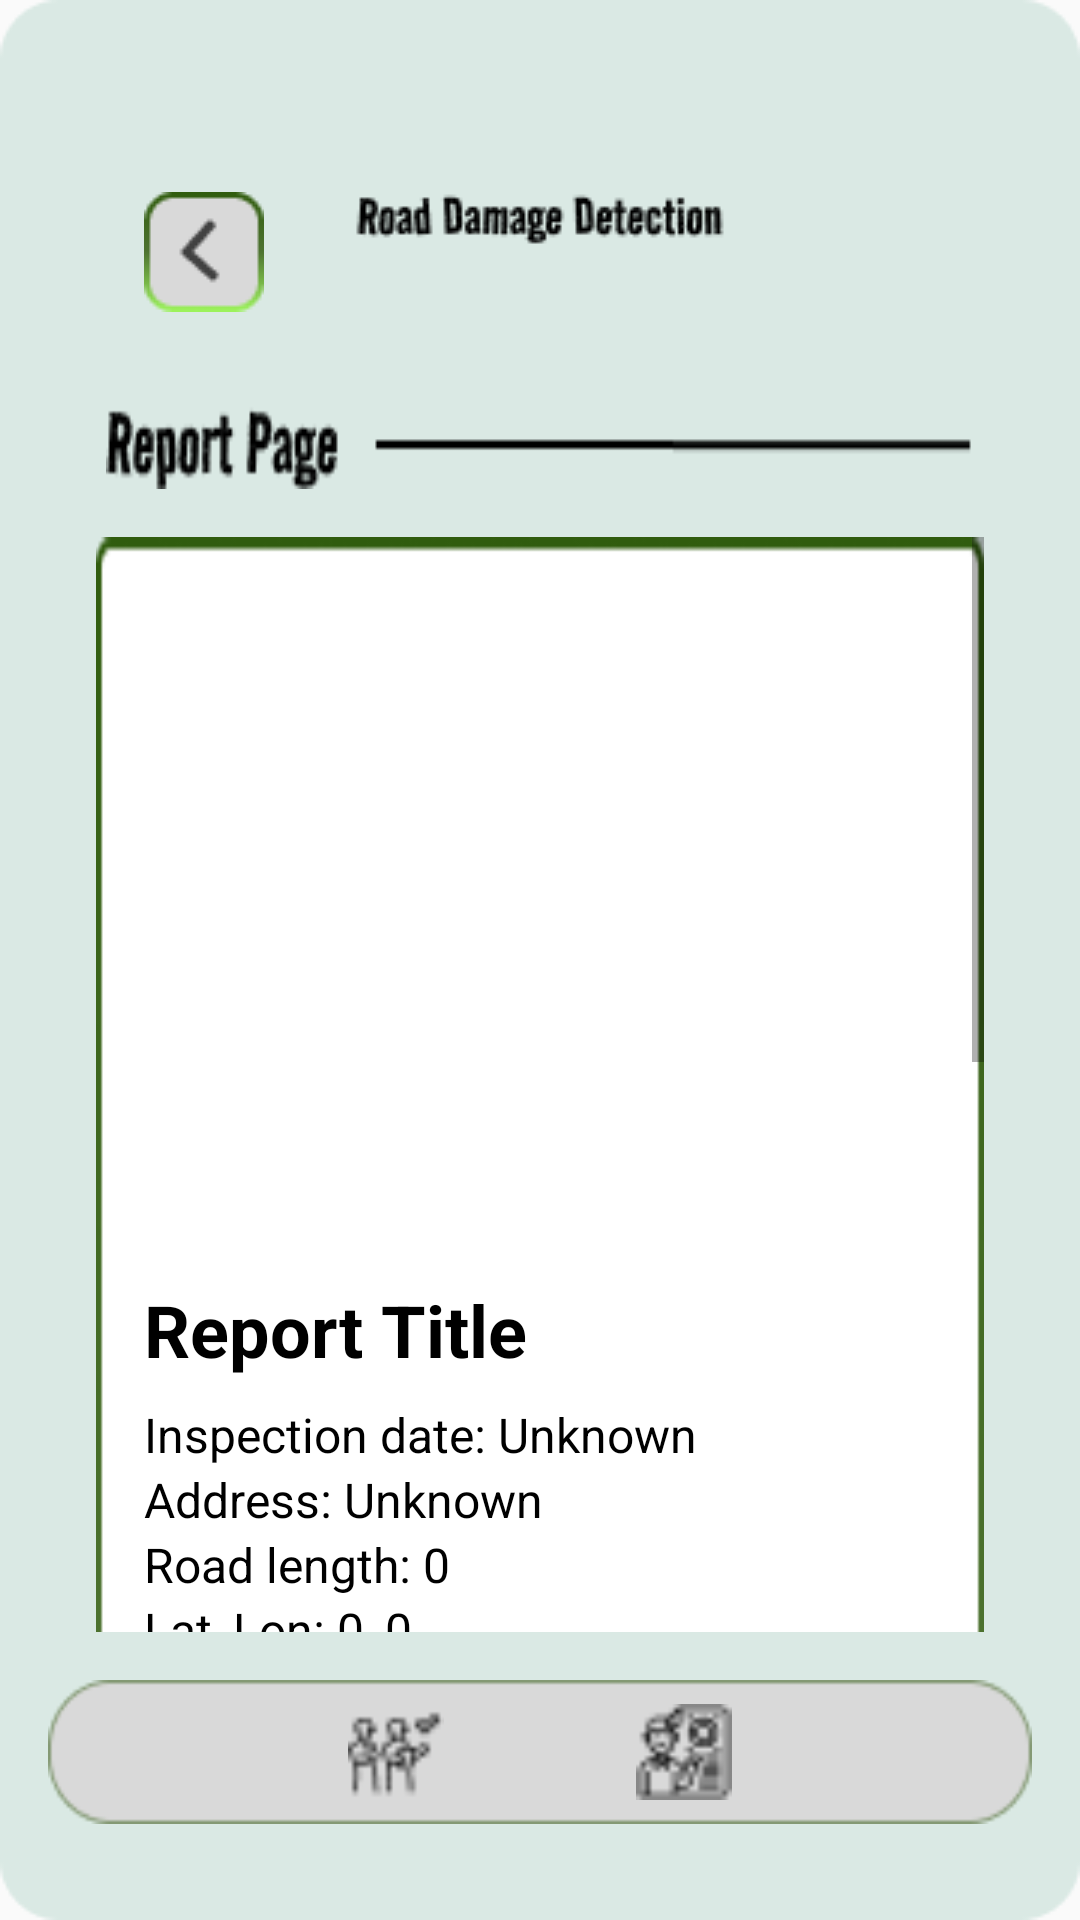

Icon bounding boxes for this 1080px×1920px phone screenshot, format bbox(x1, y1, x2, y2):
back arrow: bbox(144, 192, 264, 312)
